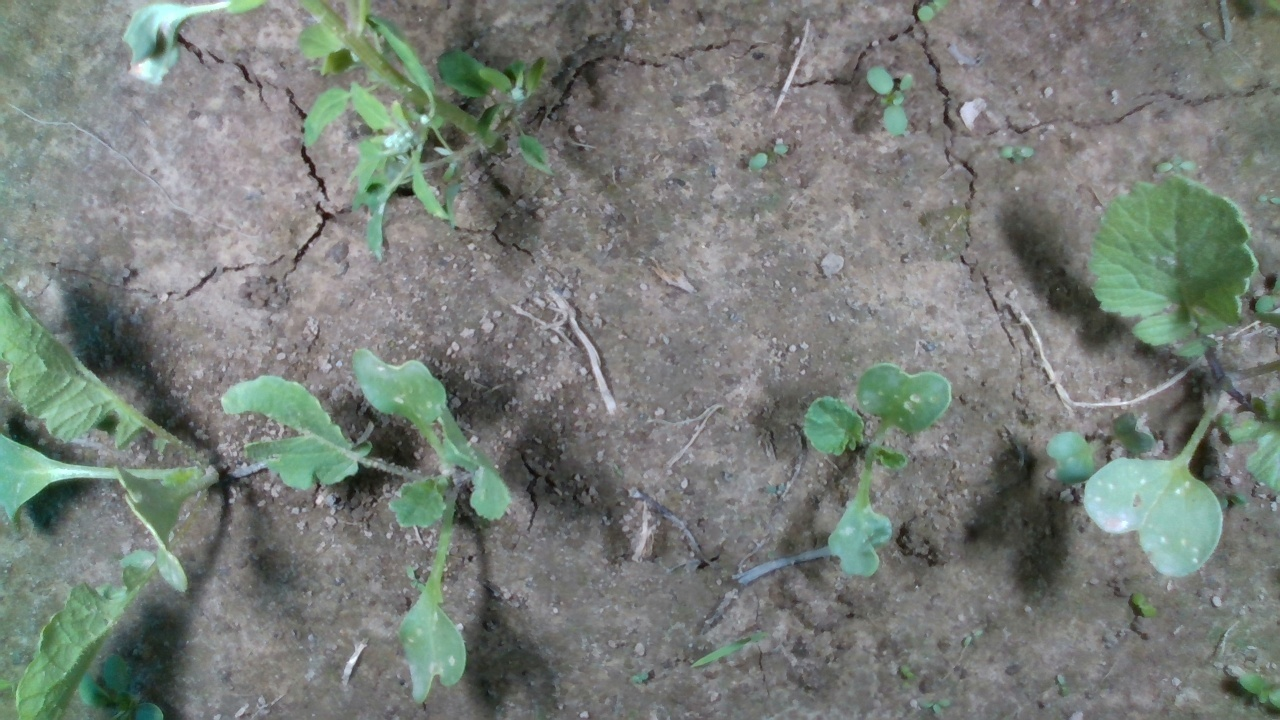weed: (746, 141, 789, 175), (997, 143, 1035, 167), (1129, 591, 1158, 620), (1153, 158, 1199, 173)
